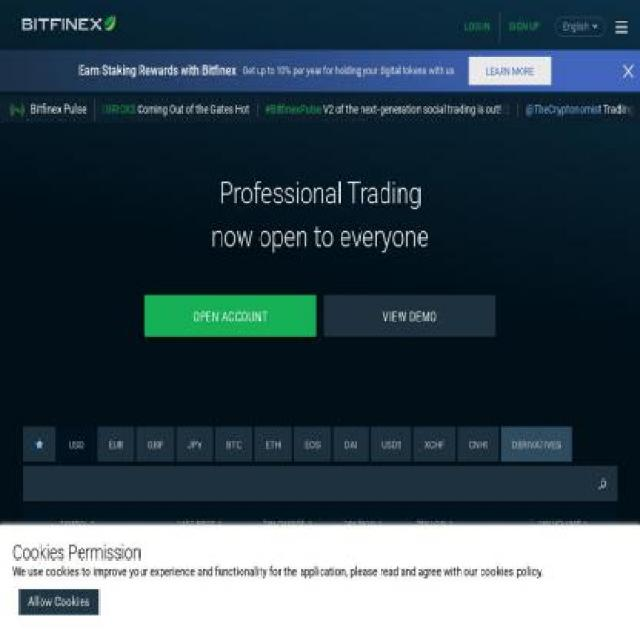button: (144, 294, 316, 338), (324, 294, 496, 338), (6, 12, 116, 50), (484, 56, 567, 85), (18, 590, 98, 616), (446, 13, 497, 44), (499, 13, 546, 44), (10, 100, 87, 118), (554, 17, 606, 37)
field: (34, 472, 595, 496)
